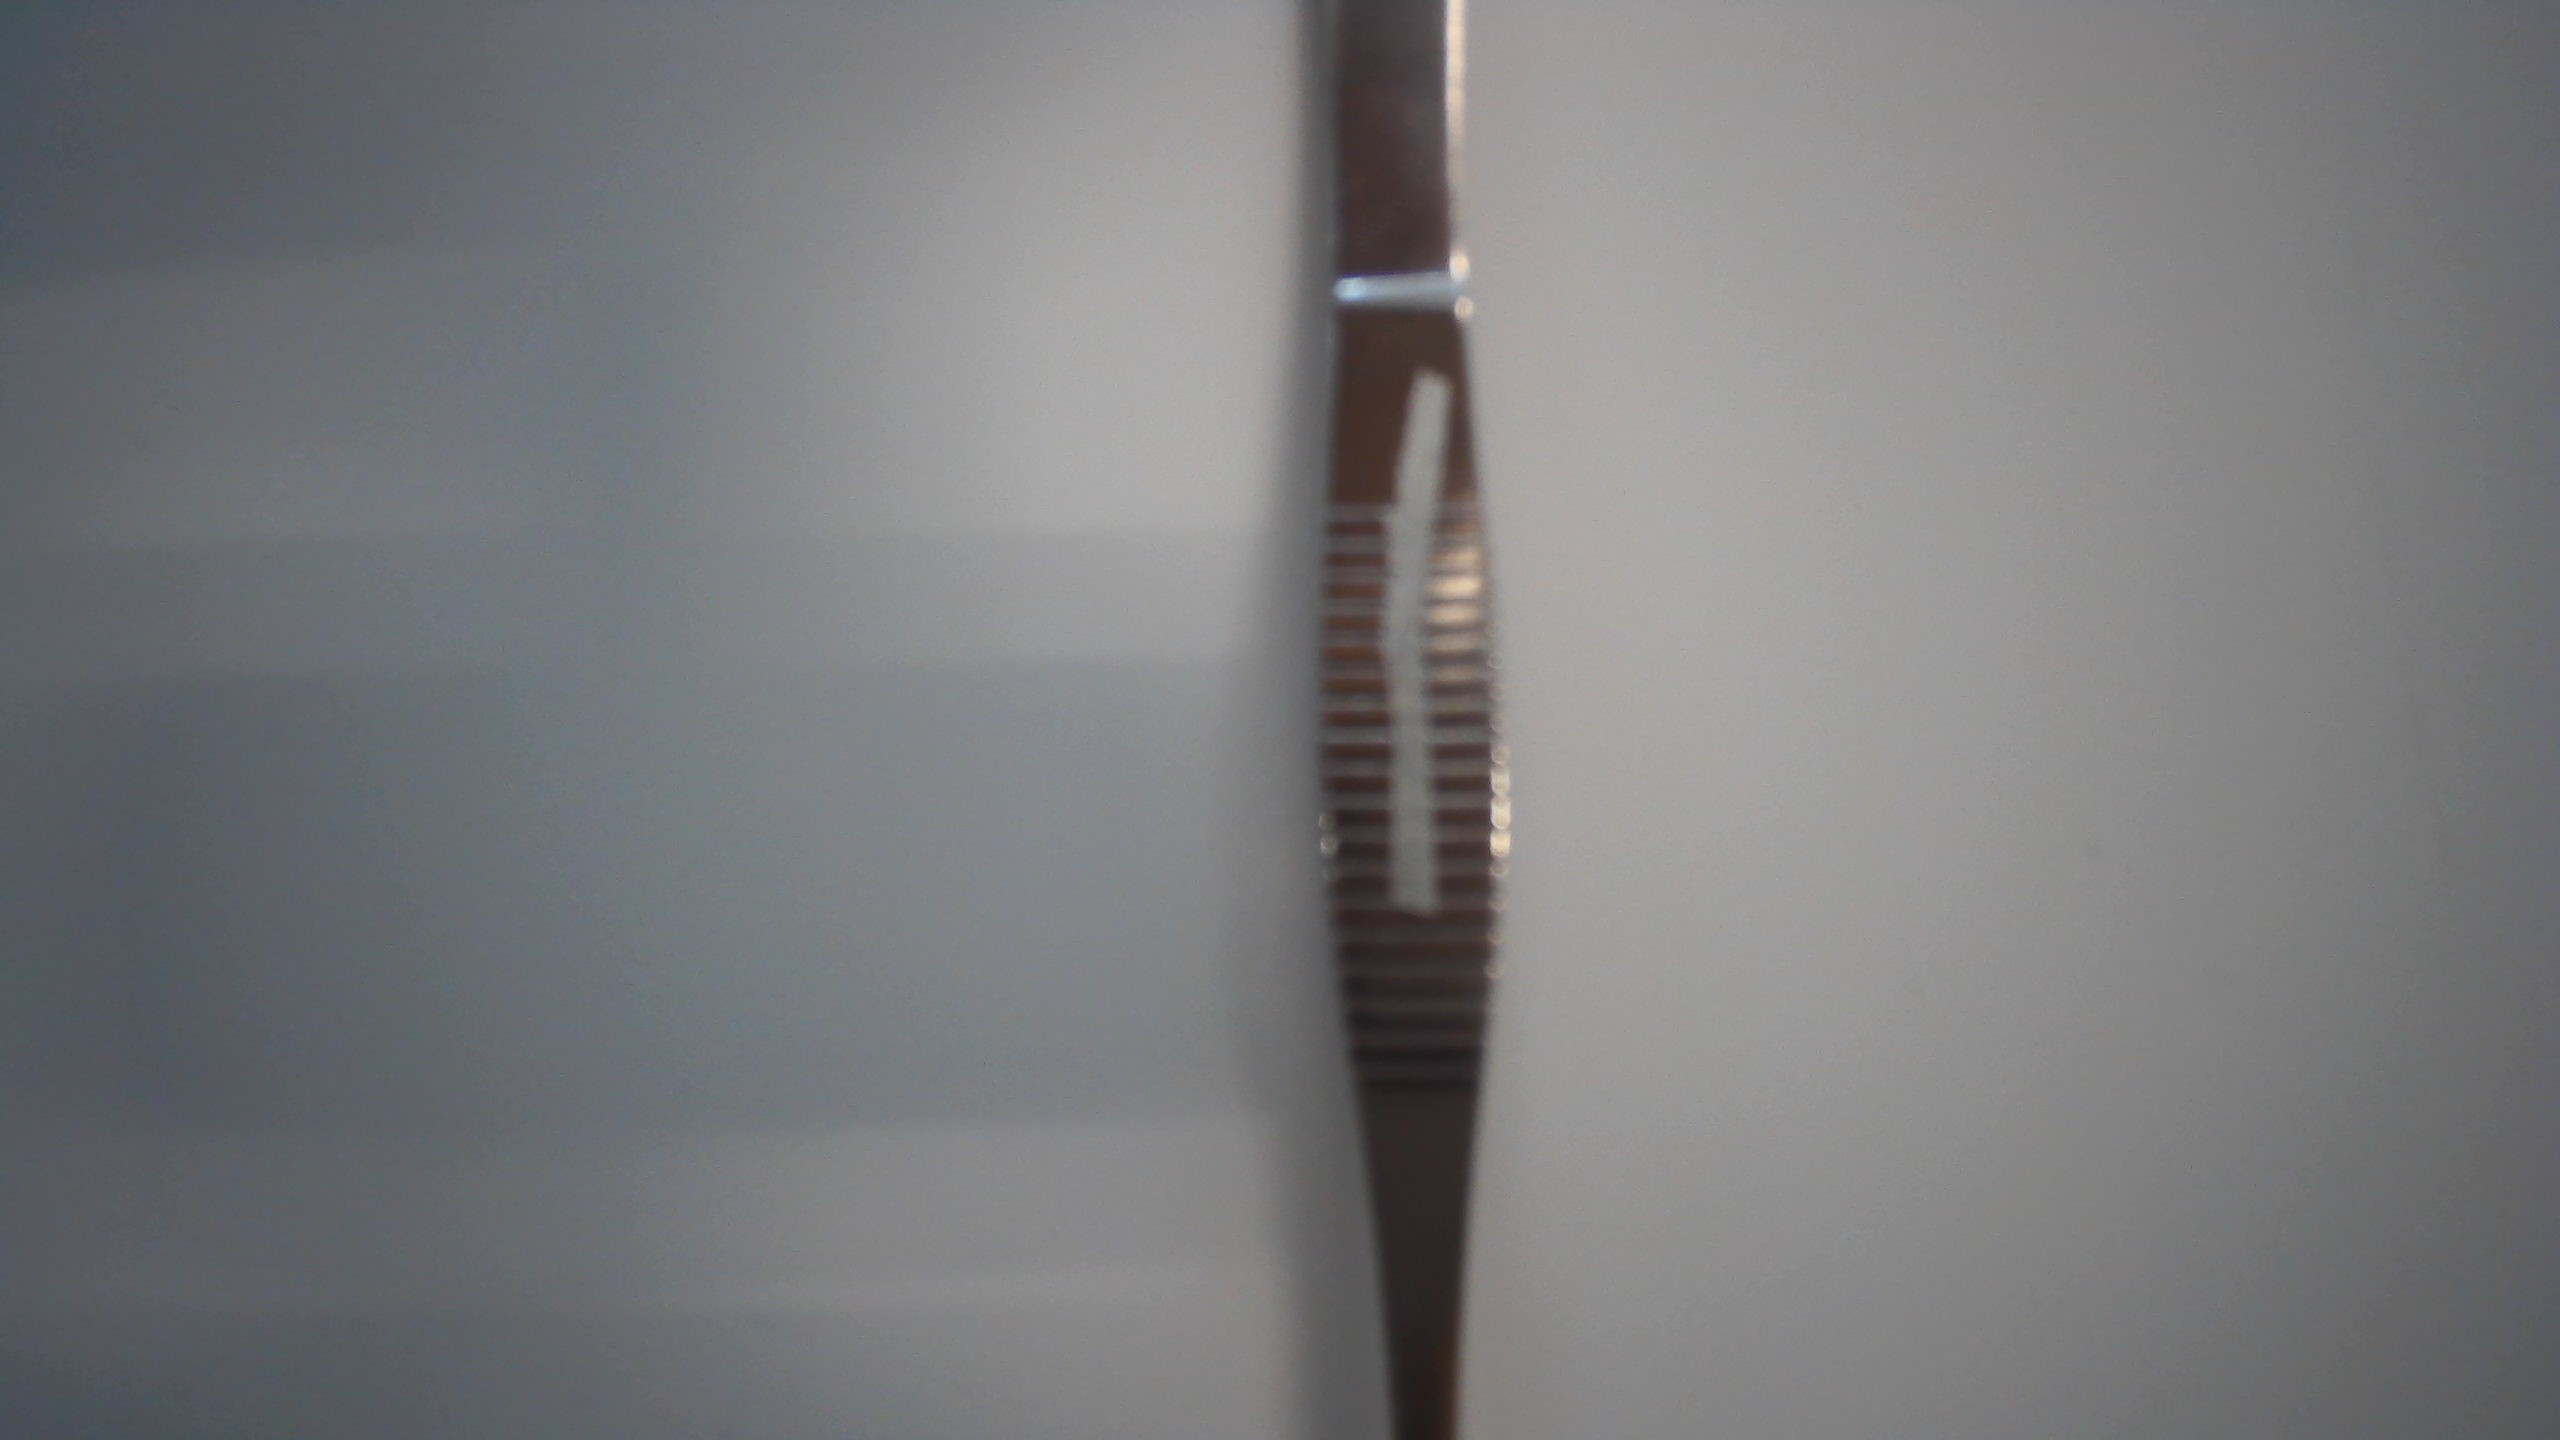Scratches: (1364, 355, 1463, 941)
